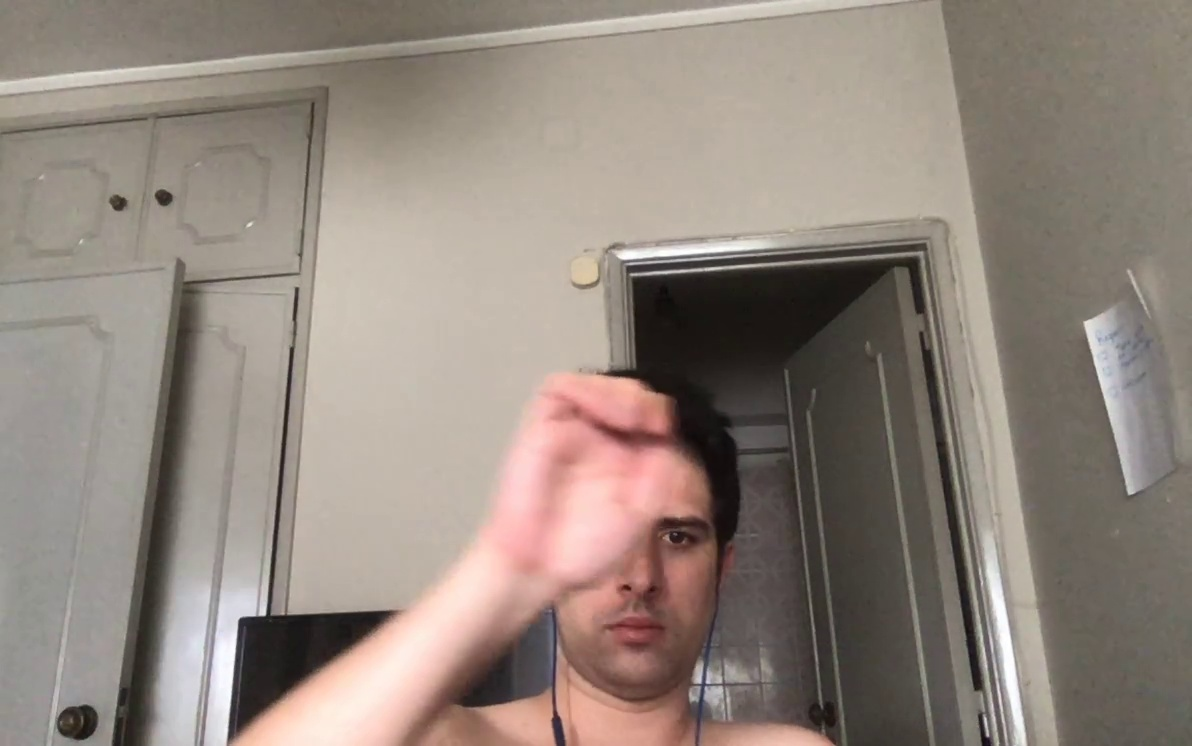c: (486, 367, 681, 592)
